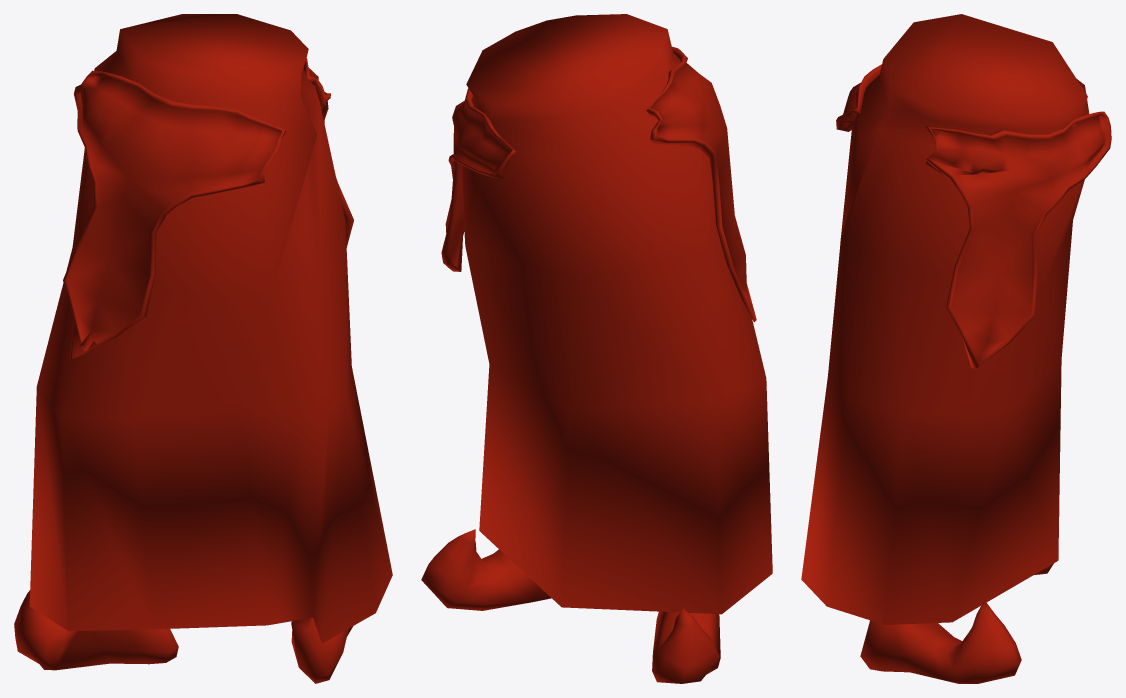
The model's file is bot_000045.obj.
3 renders of one model, left to right at view 1: azimuth 30°, elevation 25°; view 2: azimuth 150°, elevation 25°; view 3: azimuth 270°, elevation 25°, orthographic. The views are drawn at different scales.
Visible parts, largest first — view 1: LowPoly_Warlock.004_Plane.004; view 2: LowPoly_Warlock.004_Plane.004; view 3: LowPoly_Warlock.004_Plane.004.
Boxes of the visible parts, <box> form: LowPoly_Warlock.004_Plane.004: <box>14,14,392,683</box>; LowPoly_Warlock.004_Plane.004: <box>421,14,772,683</box>; LowPoly_Warlock.004_Plane.004: <box>801,14,1111,683</box>.
Bounding box in the file's own units: 0.6096 × 1.14 × 0.5407.
